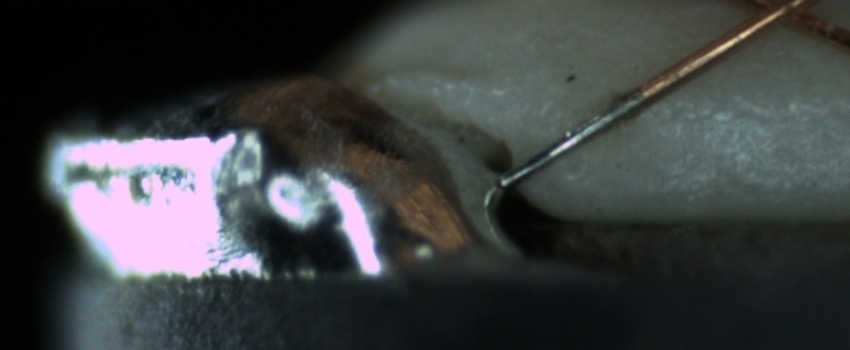CL: (725, 1, 832, 39)
DL: (638, 85, 850, 142)
TS: (497, 92, 640, 190)
